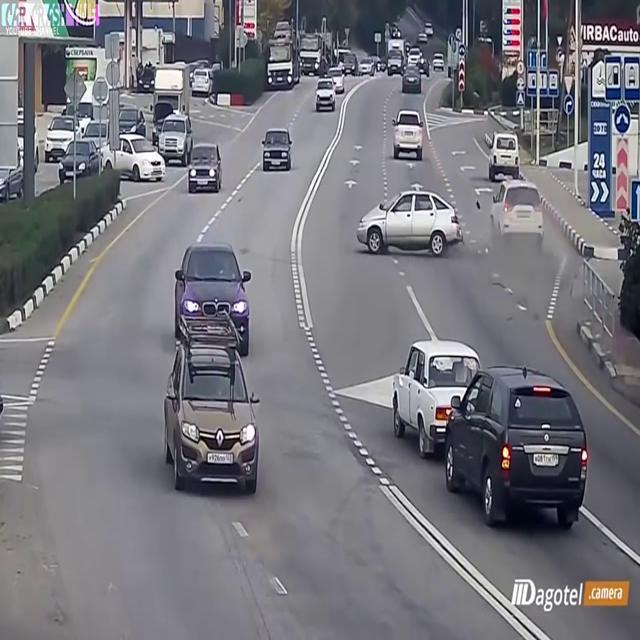accident: (356, 176, 569, 312)
